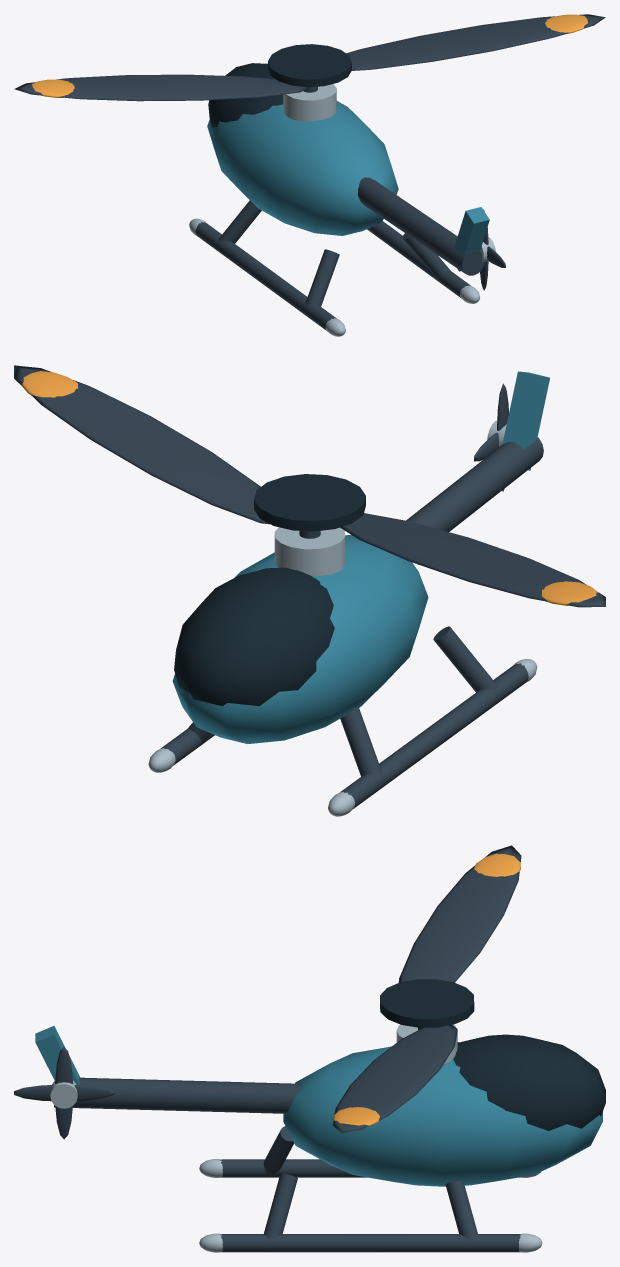
Rendered from class-helicopter.glb.
The picture shows the model from 3 angles, top to bottom: view 1: azimuth 30°, elevation 25°; view 2: azimuth 150°, elevation 25°; view 3: azimuth 270°, elevation 25°; orthographic projection. The views are drawn at different scales.
Parts seen in each view (by area): view 1: part-frame-1, part-propeller-3, part-landing-gear-7, part-motor-2, part-propeller-4; view 2: part-frame-1, part-propeller-3, part-landing-gear-7, part-motor-2, part-propeller-4; view 3: part-frame-1, part-propeller-3, part-landing-gear-7, part-propeller-4.
Part boxes in pixels (bbox=[...]): part-frame-1: bbox=[207, 63, 489, 275]; part-propeller-3: bbox=[14, 14, 605, 101]; part-landing-gear-7: bbox=[189, 200, 480, 336]; part-motor-2: bbox=[283, 84, 336, 121]; part-propeller-4: bbox=[480, 209, 505, 290]; part-frame-1: bbox=[172, 371, 549, 743]; part-propeller-3: bbox=[14, 365, 605, 607]; part-landing-gear-7: bbox=[148, 626, 537, 816]; part-motor-2: bbox=[274, 527, 345, 575]; part-propeller-4: bbox=[474, 383, 508, 491]; part-frame-1: bbox=[35, 1026, 605, 1186]; part-propeller-3: bbox=[332, 845, 521, 1132]; part-landing-gear-7: bbox=[199, 1126, 542, 1252]; part-propeller-4: bbox=[14, 1047, 114, 1139].
Bounding box in the file's own units: 4.24 × 1.55 × 3.69.
